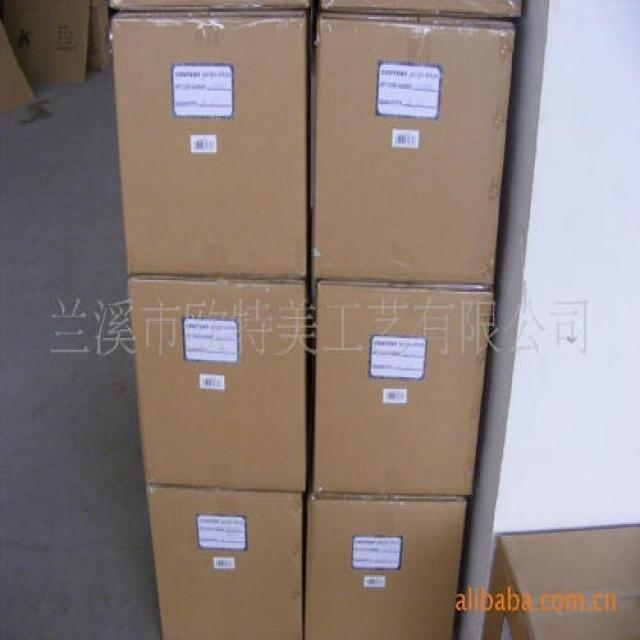box: (308, 17, 516, 289), (111, 13, 308, 278), (125, 275, 308, 497), (311, 281, 494, 494), (148, 485, 307, 638), (305, 493, 470, 638), (481, 523, 639, 637), (2, 2, 92, 81), (321, 1, 523, 19), (1, 20, 40, 107), (112, 0, 311, 10), (86, 1, 111, 69)
